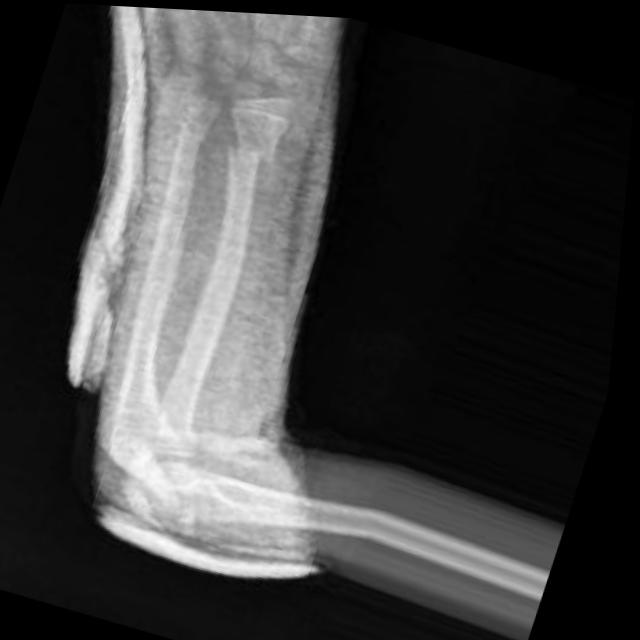fracture: (220, 130, 290, 169)
